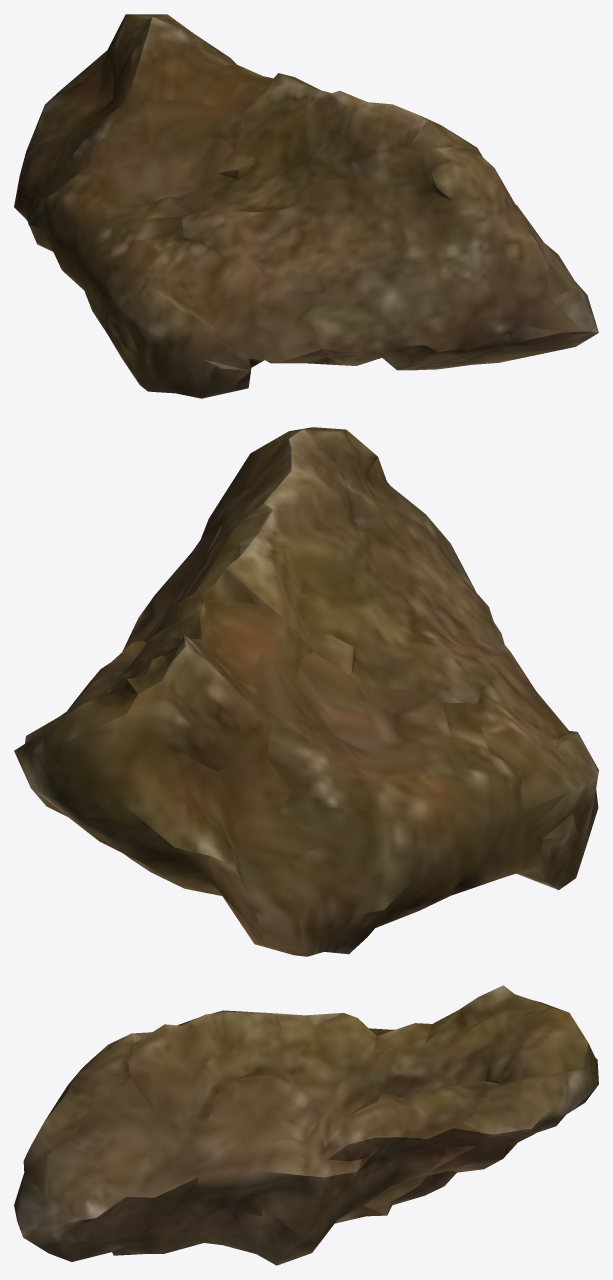
The model's file is rock_moss_01.glb.
3 views of the same model, one above another, from view 1: azimuth 30°, elevation 25°; view 2: azimuth 150°, elevation 25°; view 3: azimuth 270°, elevation 25° (orthographic). The views are drawn at different scales.
Parts seen in each view (by area): view 1: rock_moss_01; view 2: rock_moss_01; view 3: rock_moss_01.
Part boxes in pixels (left/top/right/bottom): rock_moss_01: left=14, top=14, right=598, bottom=398; rock_moss_01: left=14, top=427, right=598, bottom=956; rock_moss_01: left=14, top=985, right=598, bottom=1265.
Size of the model in its own units: 2.24 by 1.48 by 3.36.
Materials: 1 (1 with a texture image).
